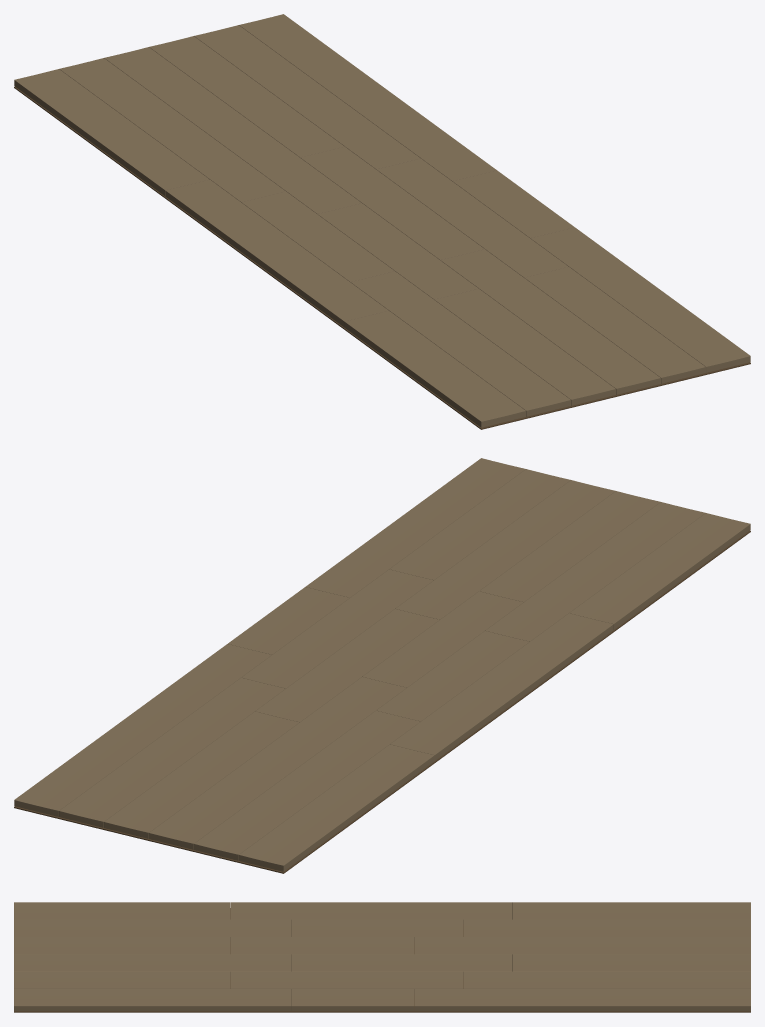
The model's file is floor-course-lod0.fbx.
3 views of the same model, one above another, from view 1: azimuth 30°, elevation 25°; view 2: azimuth 150°, elevation 25°; view 3: azimuth 270°, elevation 25° (orthographic). The views are drawn at different scales.
Visible parts, largest first — view 1: Staggered cupped floorboard.015, Staggered cupped floorboard.006, Staggered cupped floorboard.001, Staggered cupped floorboard.003, Staggered cupped floorboard.012, Staggered cupped floorboard.017, Staggered cupped floorboard.005, Staggered cupped floorboard.011, Staggered cupped floorboard, Staggered cupped floorboard.002, Staggered cupped floorboard.009, Staggered cupped floorboard.013 (+7 smaller); view 2: Staggered cupped floorboard.015, Staggered cupped floorboard.006, Staggered cupped floorboard.001, Staggered cupped floorboard.003, Staggered cupped floorboard.012, Staggered cupped floorboard, Staggered cupped floorboard.005, Staggered cupped floorboard.017, Staggered cupped floorboard.011, Staggered cupped floorboard.009, Staggered cupped floorboard.002, Staggered cupped floorboard.013 (+7 smaller); view 3: Staggered cupped floorboard.015, Staggered cupped floorboard.017, Staggered cupped floorboard.006, Staggered cupped floorboard.003, Staggered cupped floorboard.012, Staggered cupped floorboard.001, Staggered cupped floorboard.005, Staggered cupped floorboard.011, Staggered cupped floorboard, Staggered cupped floorboard.009, Staggered cupped floorboard.013, Staggered cupped floorboard.010 (+7 smaller).
Part boxes in pixels (bbox=[...]): Staggered cupped floorboard.015: bbox=[239, 14, 496, 180]; Staggered cupped floorboard.006: bbox=[104, 47, 361, 213]; Staggered cupped floorboard.001: bbox=[165, 179, 388, 326]; Staggered cupped floorboard.003: bbox=[59, 58, 285, 202]; Staggered cupped floorboard.012: bbox=[194, 25, 420, 169]; Staggered cupped floorboard.017: bbox=[530, 227, 750, 372]; Staggered cupped floorboard.005: bbox=[350, 271, 570, 416]; Staggered cupped floorboard.011: bbox=[440, 249, 660, 394]; Staggered cupped floorboard: bbox=[14, 69, 209, 195]; Staggered cupped floorboard.002: bbox=[344, 310, 525, 427]; Staggered cupped floorboard.009: bbox=[149, 36, 344, 157]; Staggered cupped floorboard.013: bbox=[376, 158, 568, 277]; Staggered cupped floorboard.015: bbox=[14, 644, 271, 816]; Staggered cupped floorboard.006: bbox=[149, 677, 406, 849]; Staggered cupped floorboard.001: bbox=[390, 613, 613, 760]; Staggered cupped floorboard.003: bbox=[194, 710, 420, 860]; Staggered cupped floorboard.012: bbox=[59, 677, 285, 827]; Staggered cupped floorboard: bbox=[239, 744, 434, 871]; Staggered cupped floorboard.005: bbox=[485, 502, 705, 641]; Staggered cupped floorboard.017: bbox=[305, 458, 525, 597]; Staggered cupped floorboard.011: bbox=[395, 480, 615, 619]; Staggered cupped floorboard.009: bbox=[104, 711, 299, 838]; Staggered cupped floorboard.002: bbox=[569, 513, 750, 629]; Staggered cupped floorboard.013: bbox=[241, 569, 433, 688]; Staggered cupped floorboard.015: bbox=[414, 989, 750, 1010]; Staggered cupped floorboard.017: bbox=[14, 989, 291, 1010]; Staggered cupped floorboard.006: bbox=[414, 937, 750, 954]; Staggered cupped floorboard.003: bbox=[463, 919, 750, 936]; Staggered cupped floorboard.012: bbox=[463, 971, 750, 988]; Staggered cupped floorboard.001: bbox=[230, 902, 512, 923]; Staggered cupped floorboard.005: bbox=[14, 919, 291, 941]; Staggered cupped floorboard.011: bbox=[14, 954, 291, 975]; Staggered cupped floorboard: bbox=[512, 902, 750, 919]; Staggered cupped floorboard.009: bbox=[512, 954, 750, 971]; Staggered cupped floorboard.013: bbox=[230, 971, 463, 993]; Staggered cupped floorboard.010: bbox=[291, 954, 512, 975].
Bounding box in the file's own units: 100 × 2.9 × 300.
